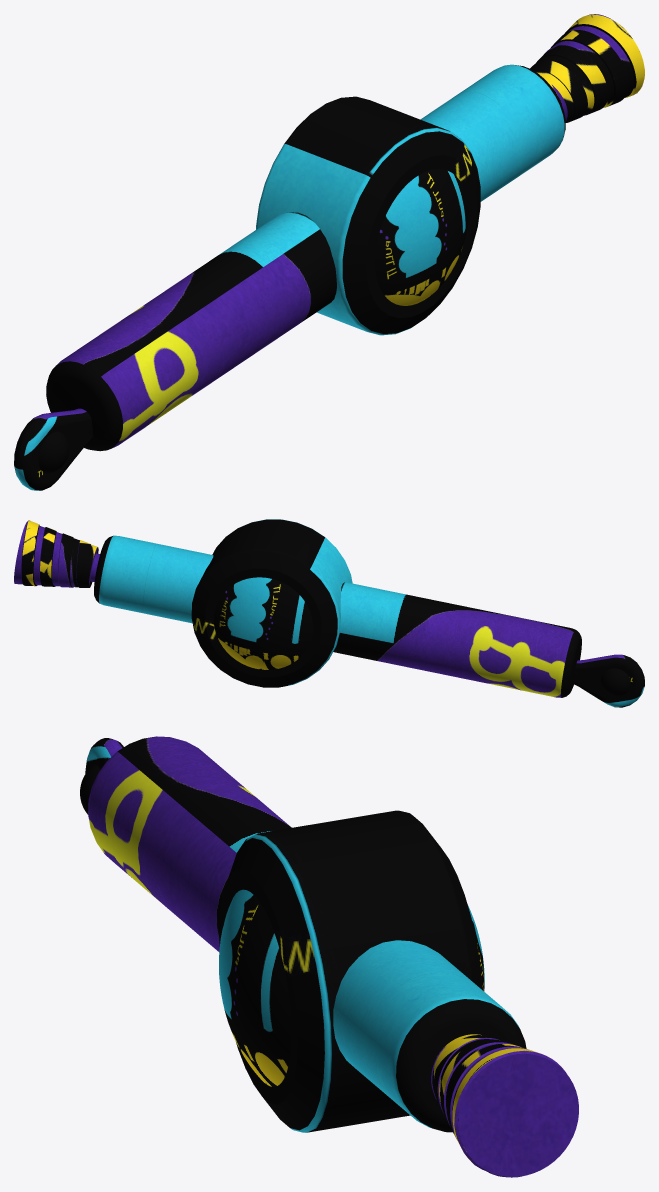
The model's file is bop_it_export_3blinn1.obj.
The picture shows the model from 3 angles, top to bottom: view 1: azimuth 30°, elevation 25°; view 2: azimuth 150°, elevation 25°; view 3: azimuth 270°, elevation 25°; orthographic projection. The views are drawn at different scales.
Visible parts, largest first — view 1: bop_it_export_3:pCylinder10_bop_it_export_3:blinn1_0; view 2: bop_it_export_3:pCylinder10_bop_it_export_3:blinn1_0; view 3: bop_it_export_3:pCylinder10_bop_it_export_3:blinn1_0.
Boxes of the visible parts, box(x1,y1,x2,y2) form: bop_it_export_3:pCylinder10_bop_it_export_3:blinn1_0: box(14, 14, 644, 490); bop_it_export_3:pCylinder10_bop_it_export_3:blinn1_0: box(14, 519, 644, 707); bop_it_export_3:pCylinder10_bop_it_export_3:blinn1_0: box(80, 736, 578, 1177).
Bounding box in the file's own units: 39.32 × 10.4 × 16.09.
